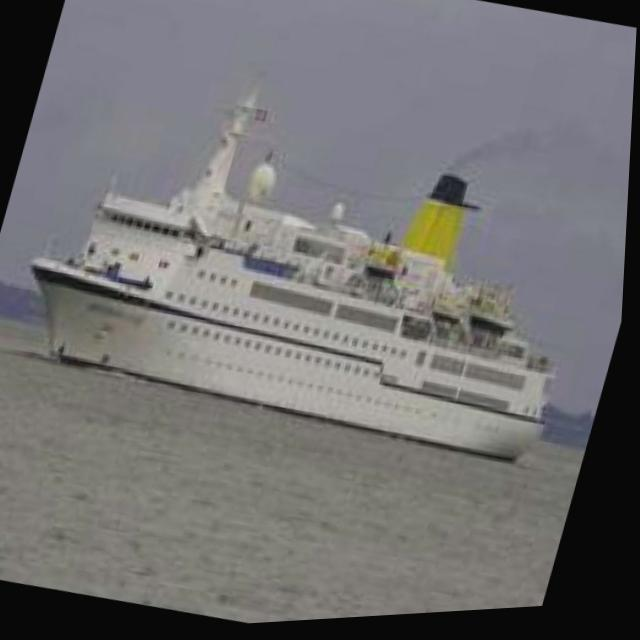ship2: (31, 73, 557, 473)
